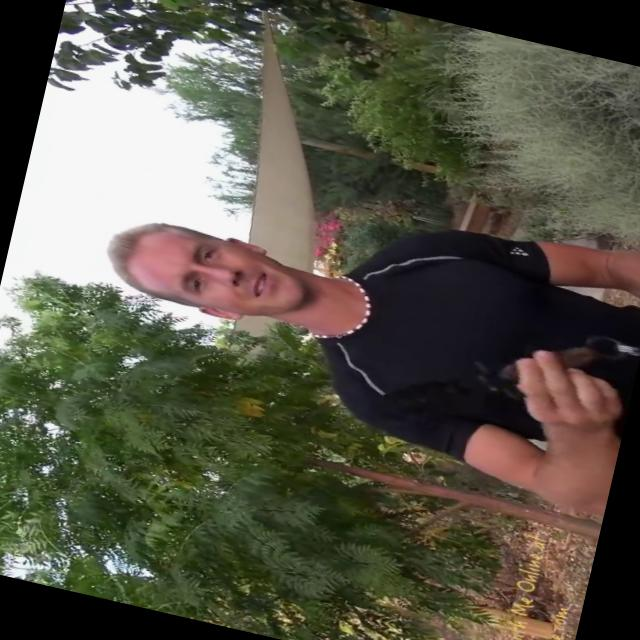knife: (357, 277, 639, 471)
